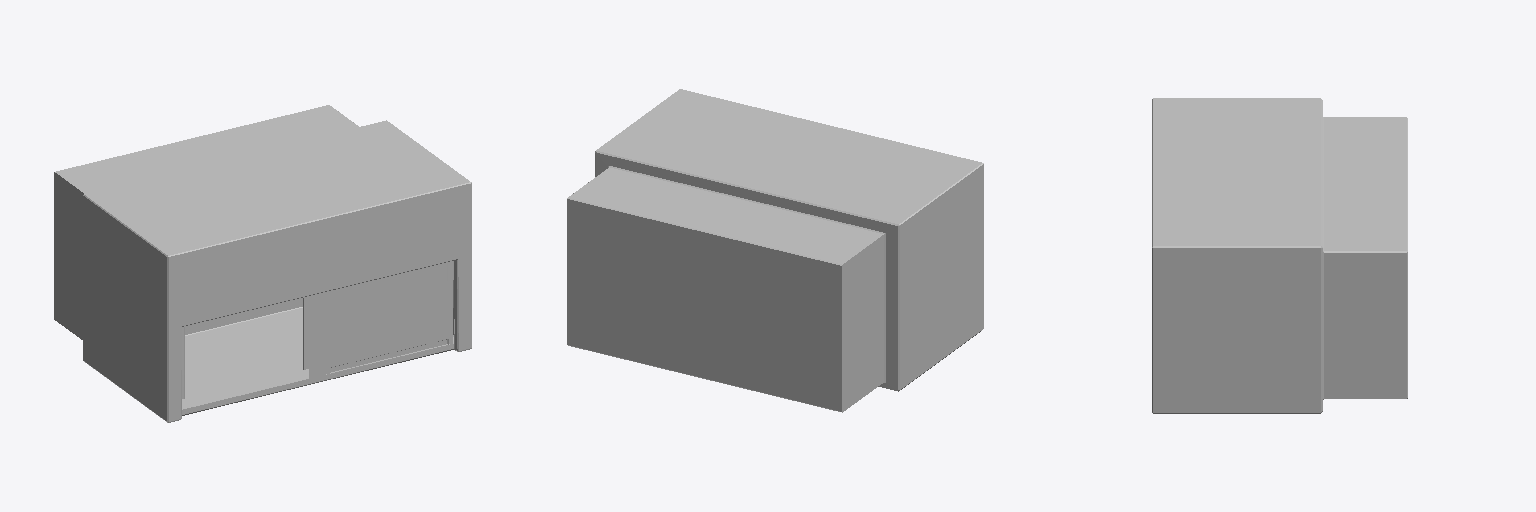
File: beerfridge.obj
3 views of the same model, side by side, from view 1: azimuth 30°, elevation 25°; view 2: azimuth 150°, elevation 25°; view 3: azimuth 270°, elevation 25° (orthographic).
Parts seen in each view (by area): view 1: model_12; view 2: model_12; view 3: model_12.
Part boxes in pixels (x1,y1,x2,y2): model_12: (54, 105, 471, 422); model_12: (567, 89, 983, 412); model_12: (1152, 98, 1407, 413).
Size of the model in its own units: 103 by 54 by 75.